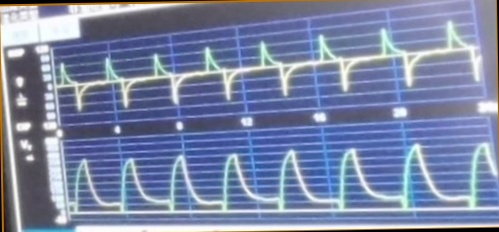Flow: (56, 23, 480, 114)
Leakage Volume: (69, 140, 496, 220)
